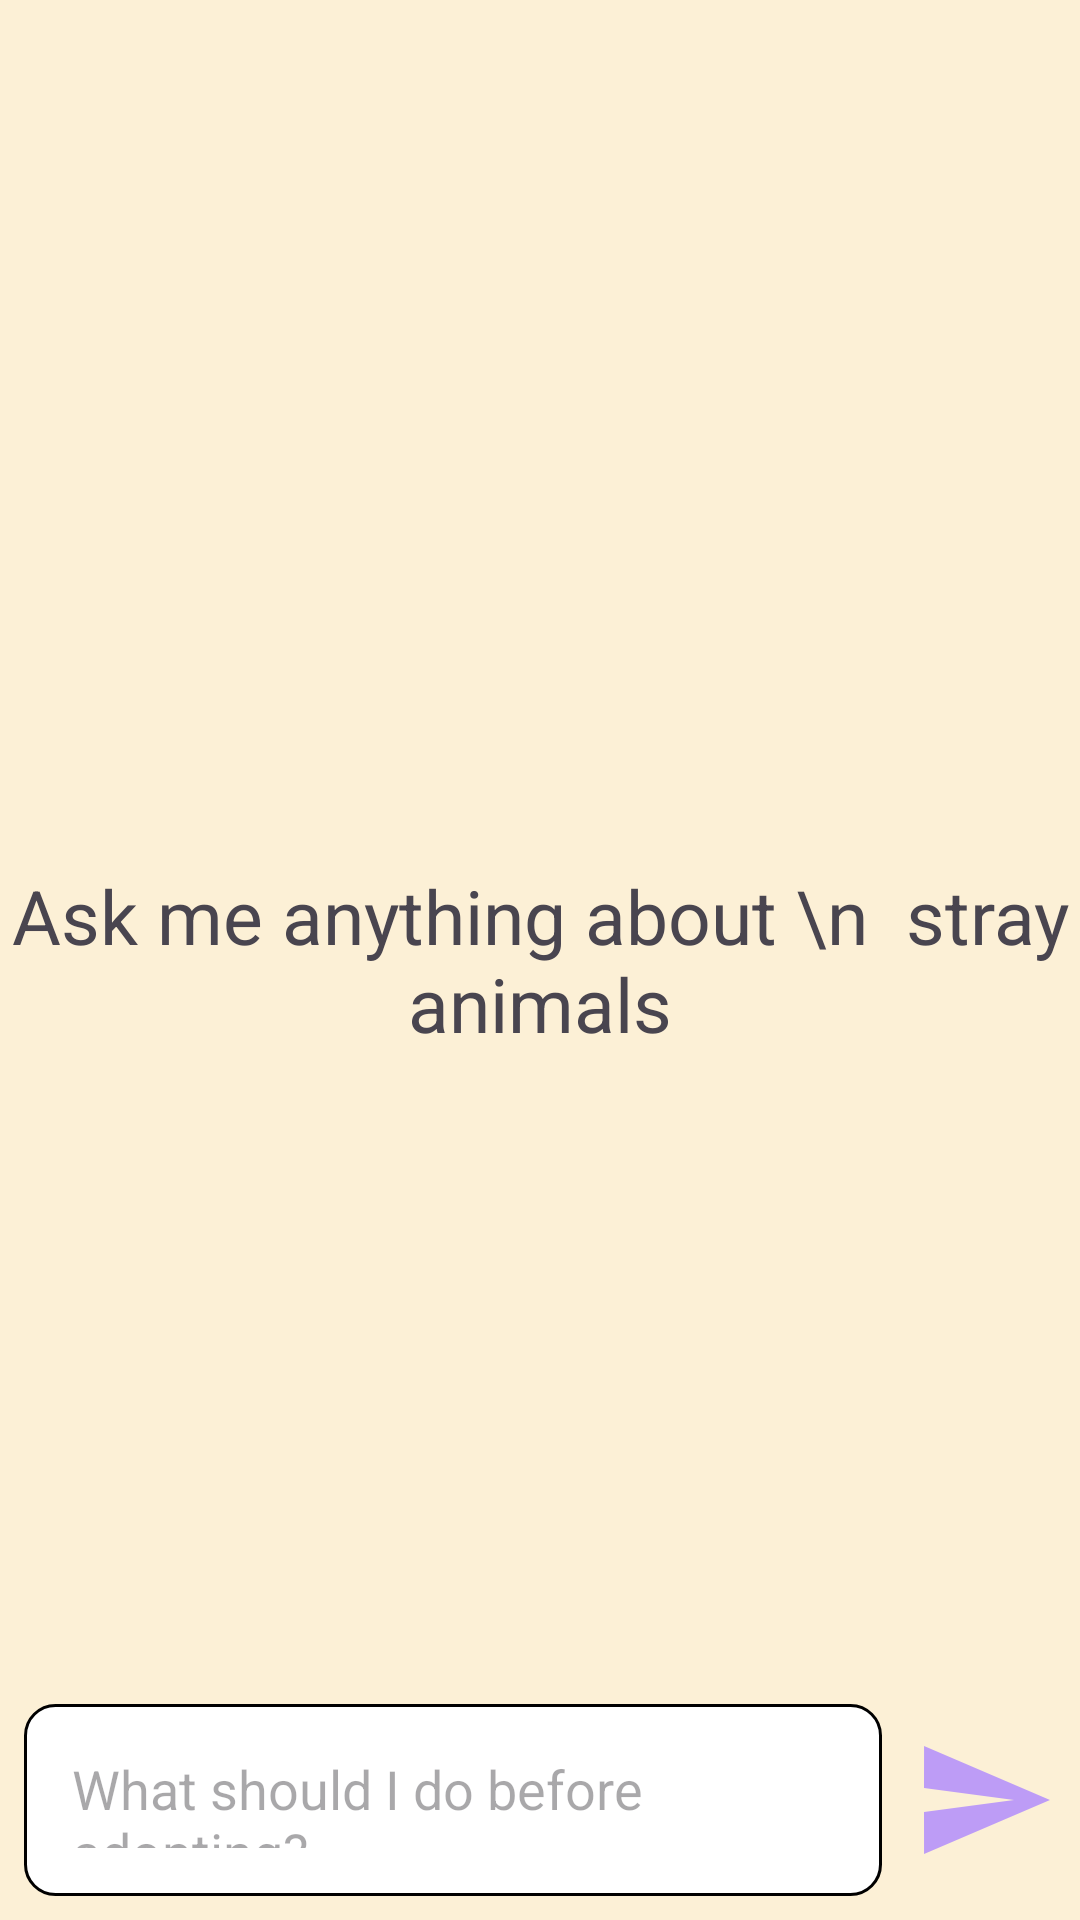

Screen size 1080x1920. Icon name, then its center in pixels as [x,y]:
send: [986,1800]
